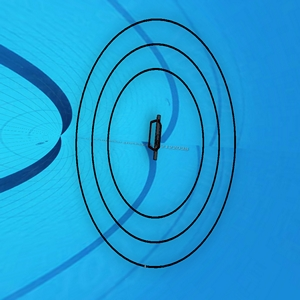circle: (75, 16, 240, 269)
submarine: (146, 116, 164, 159)
